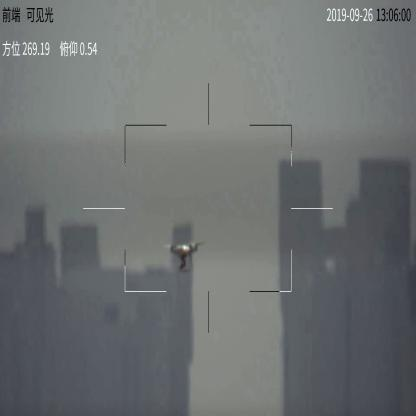uav: (163, 239, 204, 272)
